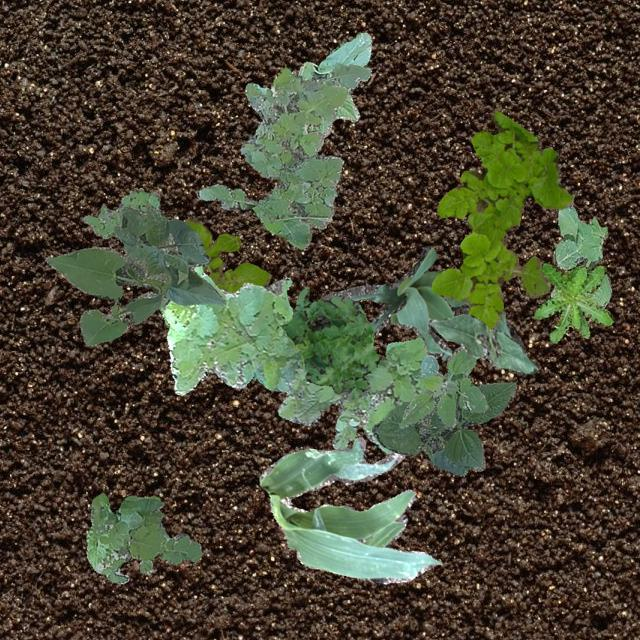crop: (318, 244, 526, 374), (258, 436, 441, 582), (44, 202, 224, 346), (372, 380, 516, 476), (296, 32, 371, 136), (428, 314, 538, 372)
weed: (160, 264, 426, 452), (197, 62, 370, 248), (431, 110, 574, 328), (282, 286, 378, 400), (86, 492, 202, 582), (398, 344, 488, 428), (532, 262, 612, 342), (184, 218, 270, 292), (550, 204, 610, 308), (82, 188, 160, 238), (158, 296, 168, 308)
